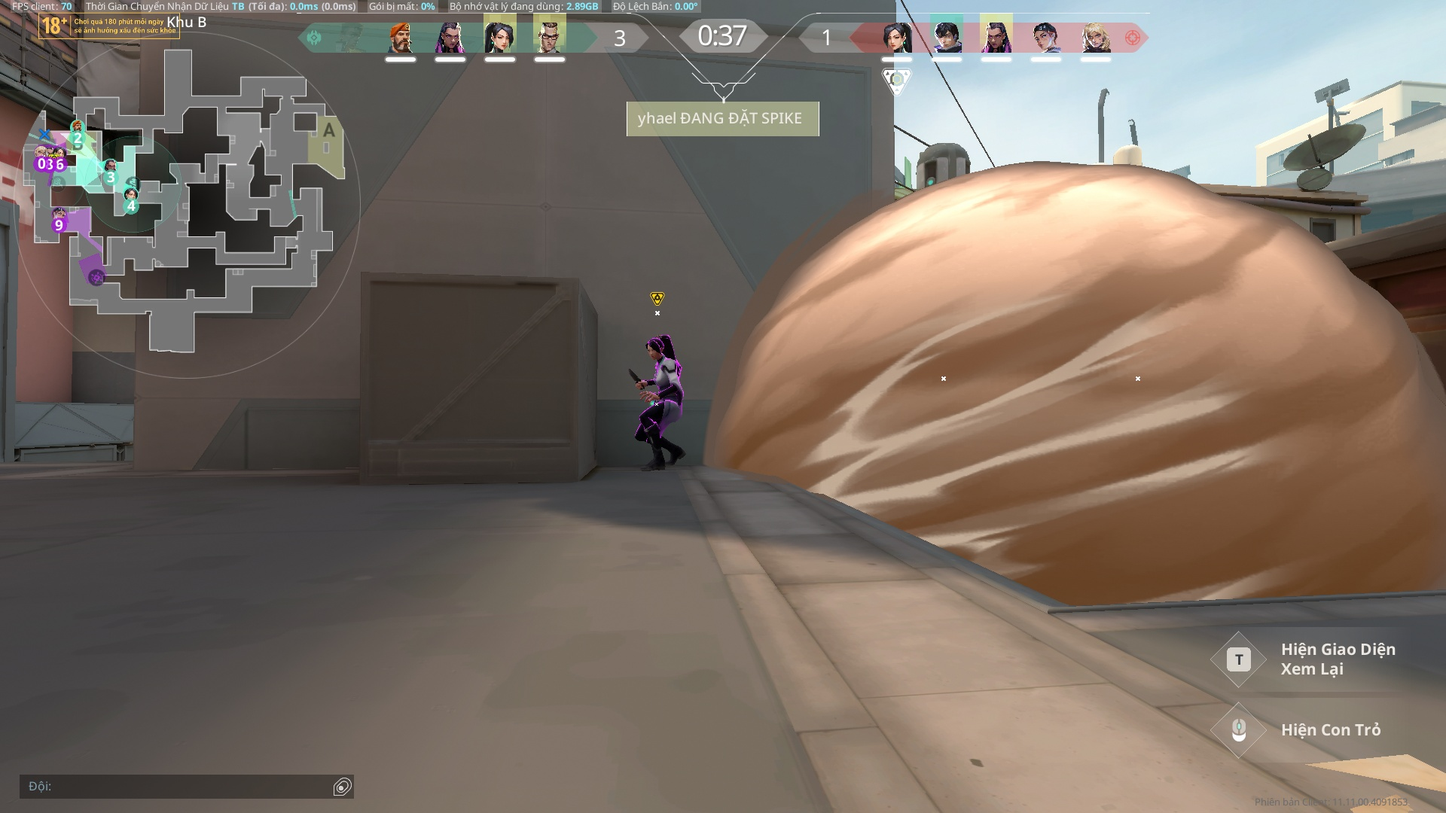body: (654, 361, 683, 405)
head: (646, 333, 667, 357)
